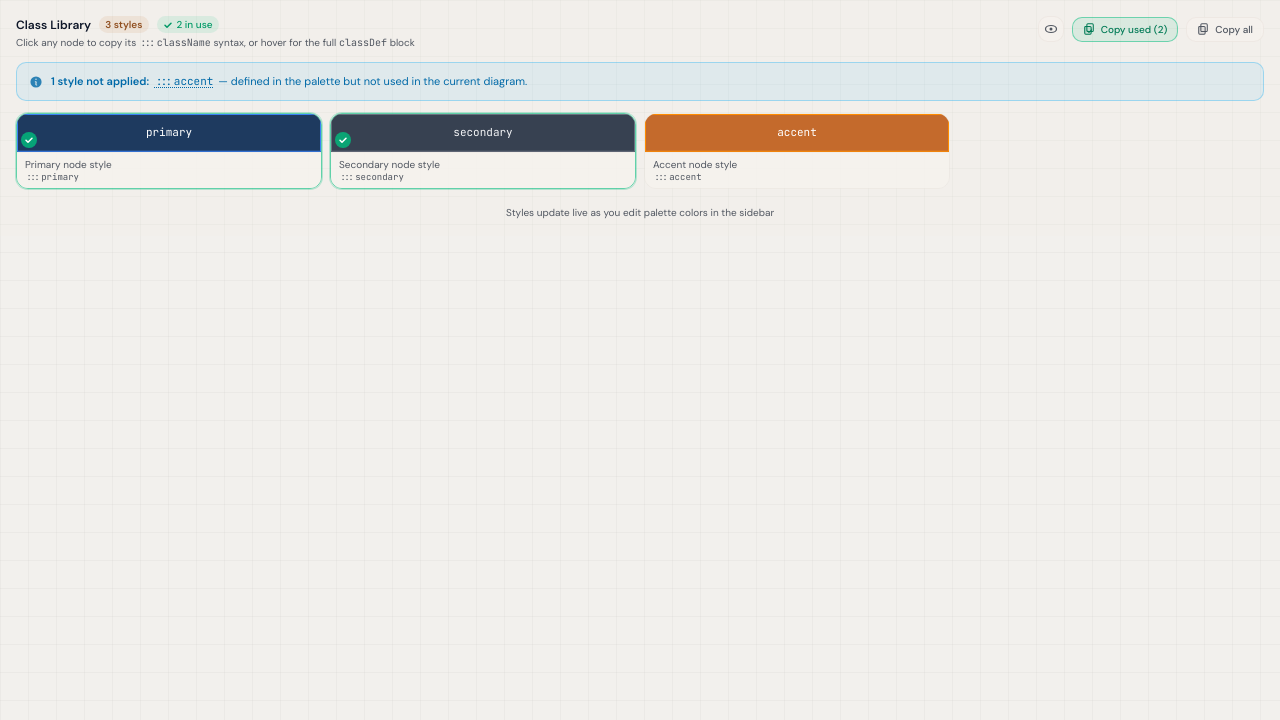
Scenario: ClassBrowser preview — header label changes with mode › header does NOT include '(used only)' suffix when in 'all' mode
Click the button named "Preview all classDefs": (1051, 29) [1038, 16, 1064, 42]
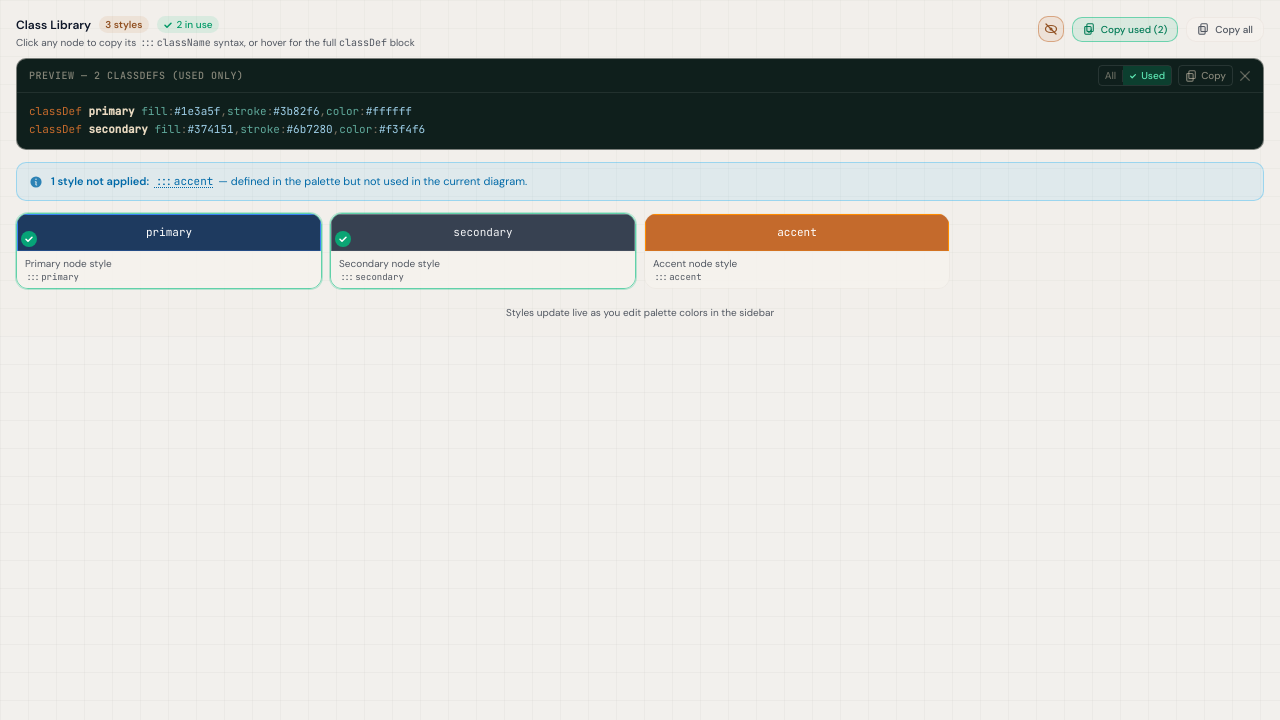
Click the button titled "Show all classDefs": (1110, 76) [1099, 66, 1122, 85]
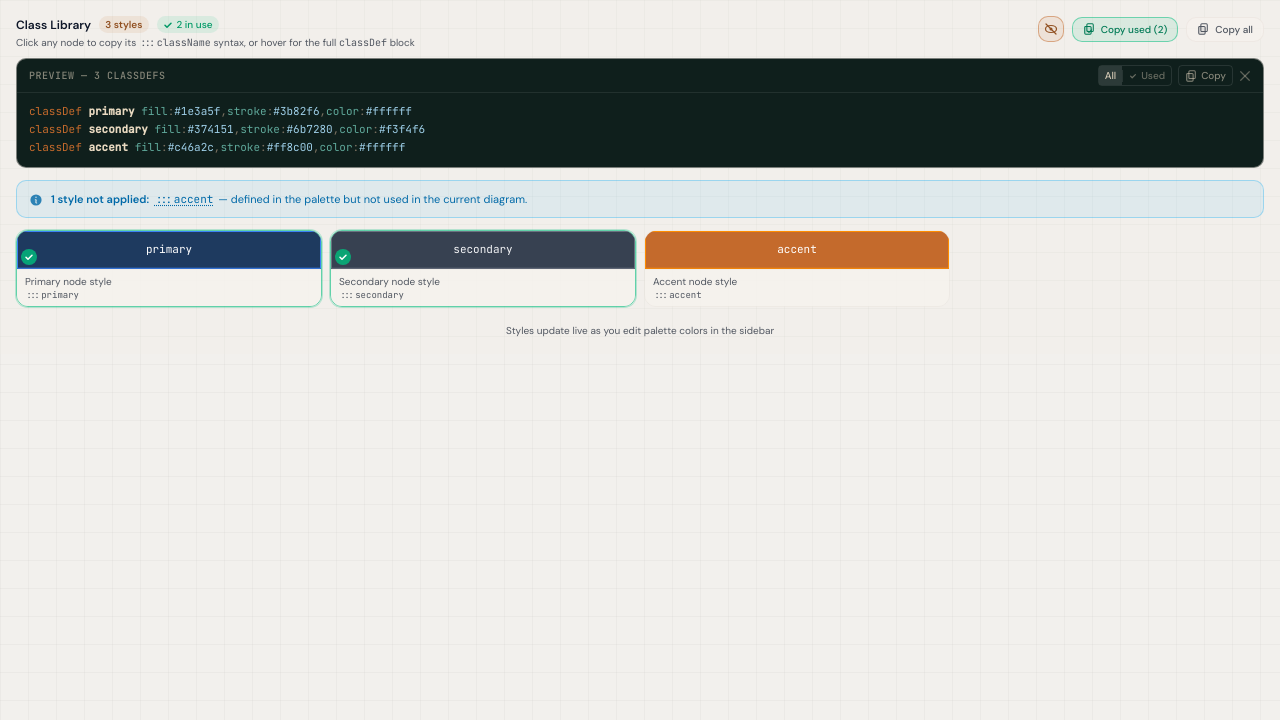
Now the text "(used only)" is gone
